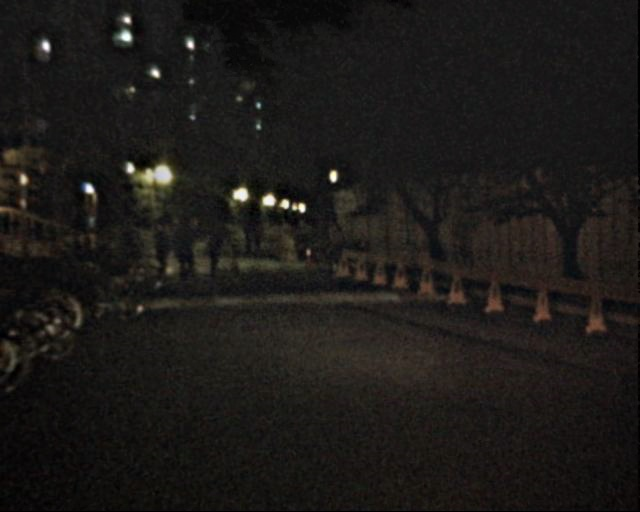person: (199, 222, 224, 283), (152, 223, 175, 278), (326, 223, 348, 277), (169, 222, 191, 275), (123, 219, 144, 271), (183, 216, 202, 263), (240, 220, 256, 260), (250, 220, 266, 259)
